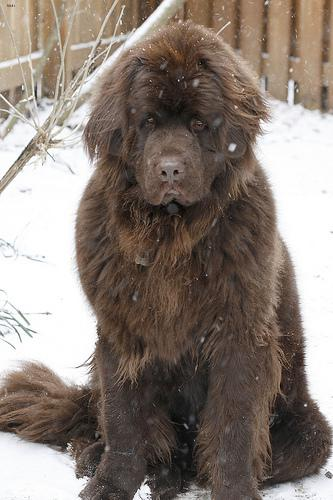dog-newfoundland: (87, 22, 257, 205)
